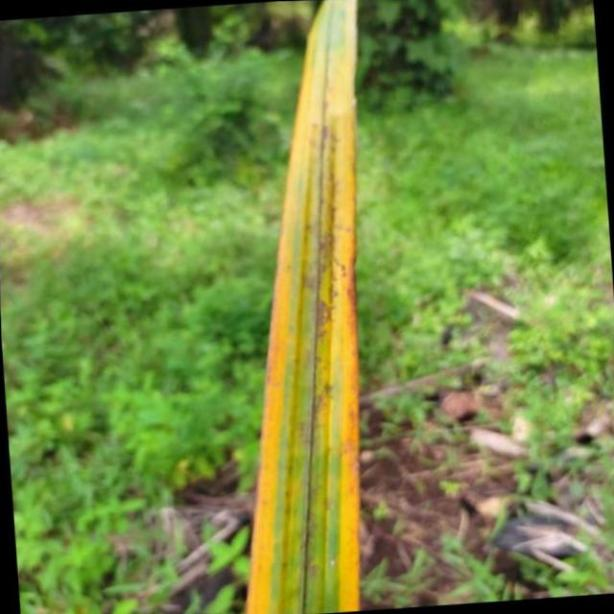Megnesium: (246, 0, 358, 614)
